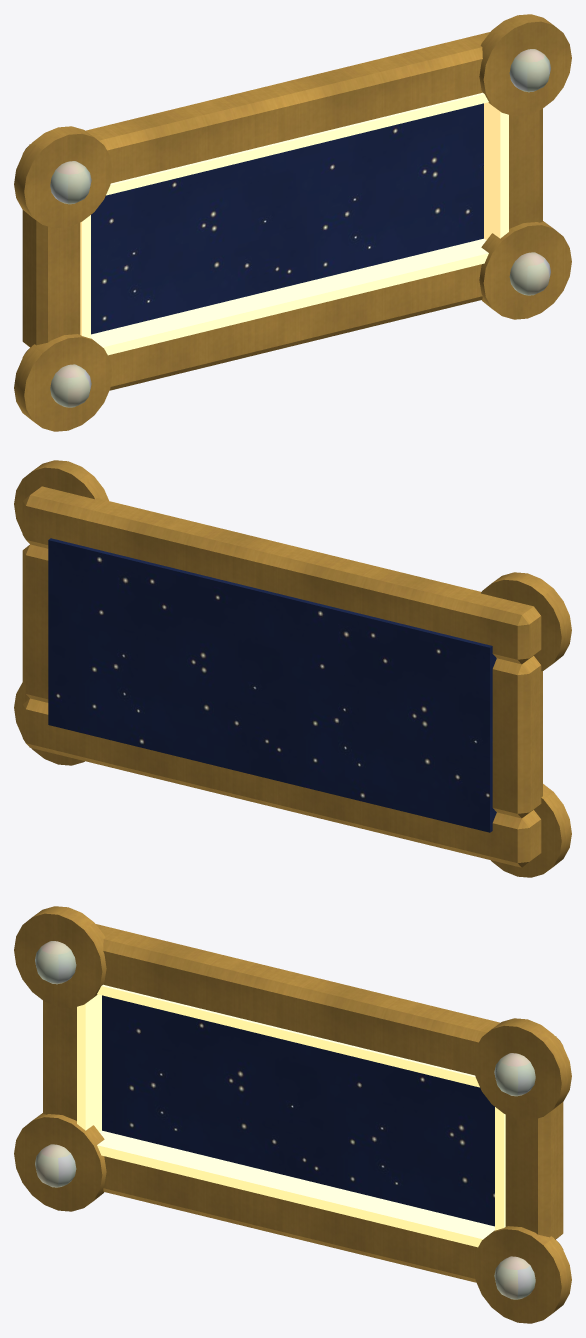
The model's file is lb_plaque.glb.
The picture shows the model from 3 angles, top to bottom: view 1: azimuth 30°, elevation 25°; view 2: azimuth 150°, elevation 25°; view 3: azimuth 330°, elevation 25°; orthographic projection.
Visible parts, largest first — view 1: lb_plaque; view 2: lb_plaque; view 3: lb_plaque.
Part boxes in pixels (x1,y1,x2,y2): lb_plaque: (14,14,571,431); lb_plaque: (14,460,571,877); lb_plaque: (14,906,571,1323).
Bounding box in the file's own units: 3.72 × 1.92 × 0.49.
Materials: 4 (3 with a texture image).
